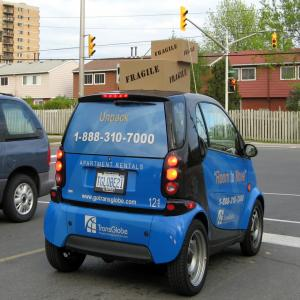Vehicle-registration-plate: (97, 174, 126, 190)
